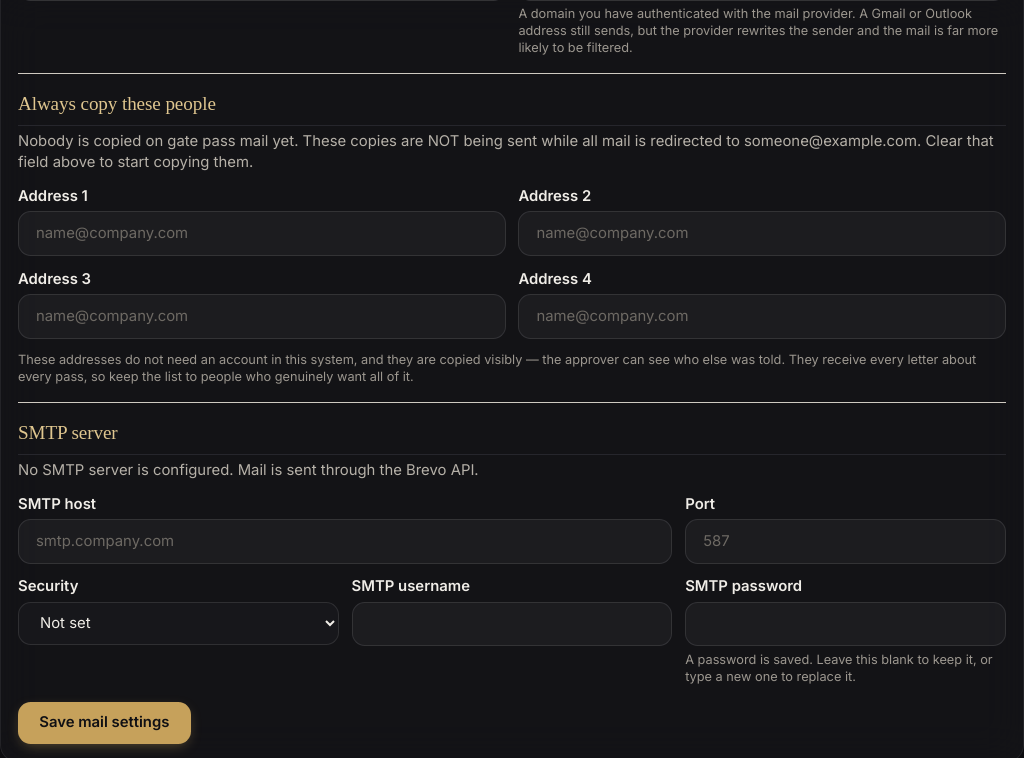
the approval mail settings card › surfaces an RPC refusal instead of pretending it saved
(page scrolled)
Click the button "Save mail settings". click: {"x": 104, "y": 723}
box: [18,702,191,744]
(page scrolled)
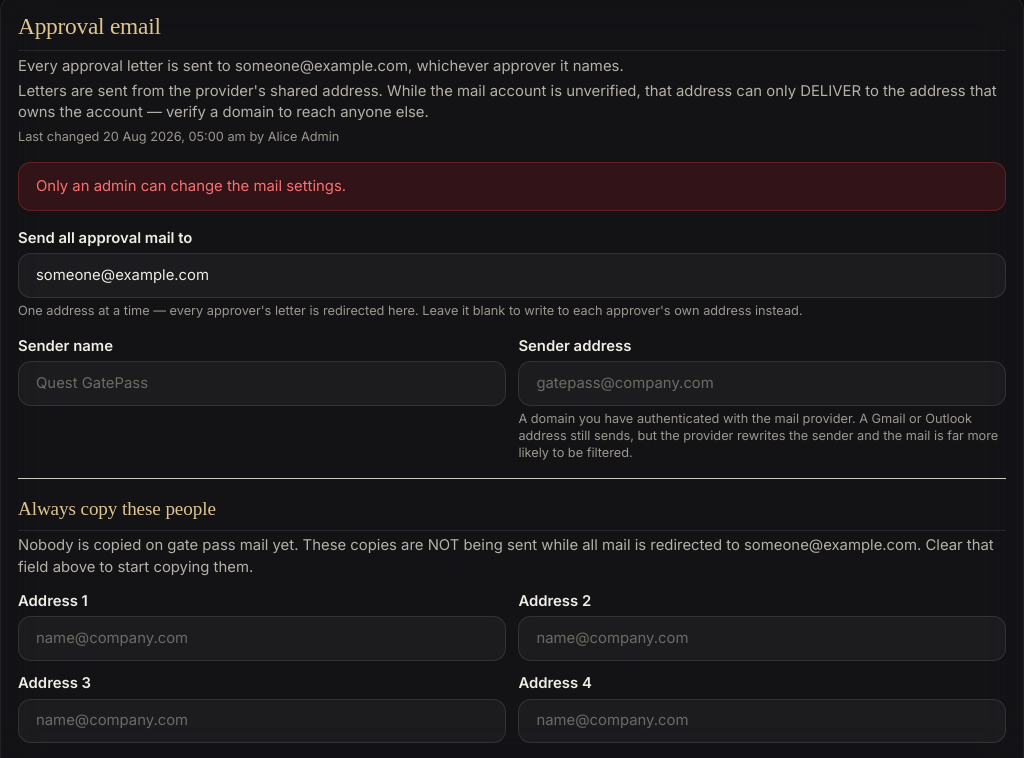
Now the text "Only an admin can change the mail settings." is shown, box [18,162,1006,211]
